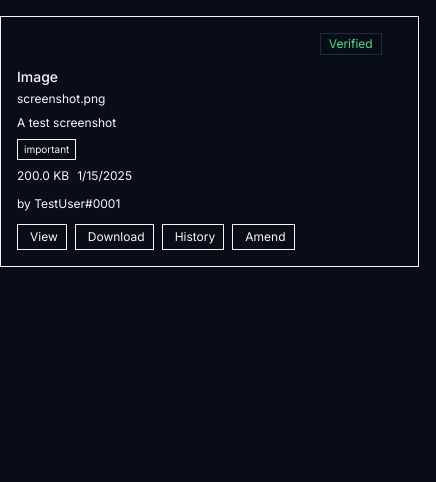
Test: EvidenceGallery › shows inline amend form when Amend is clicked
Click the button "Amend" at (263, 237), box [232,224,294,250]
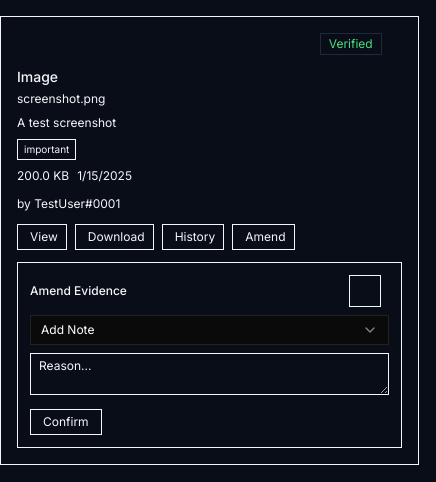
Now the text "Amend Evidence" is shown, box [30,283,127,299]
Now the text box with placeholder "Reason..." is shown, box [30,353,389,395]
